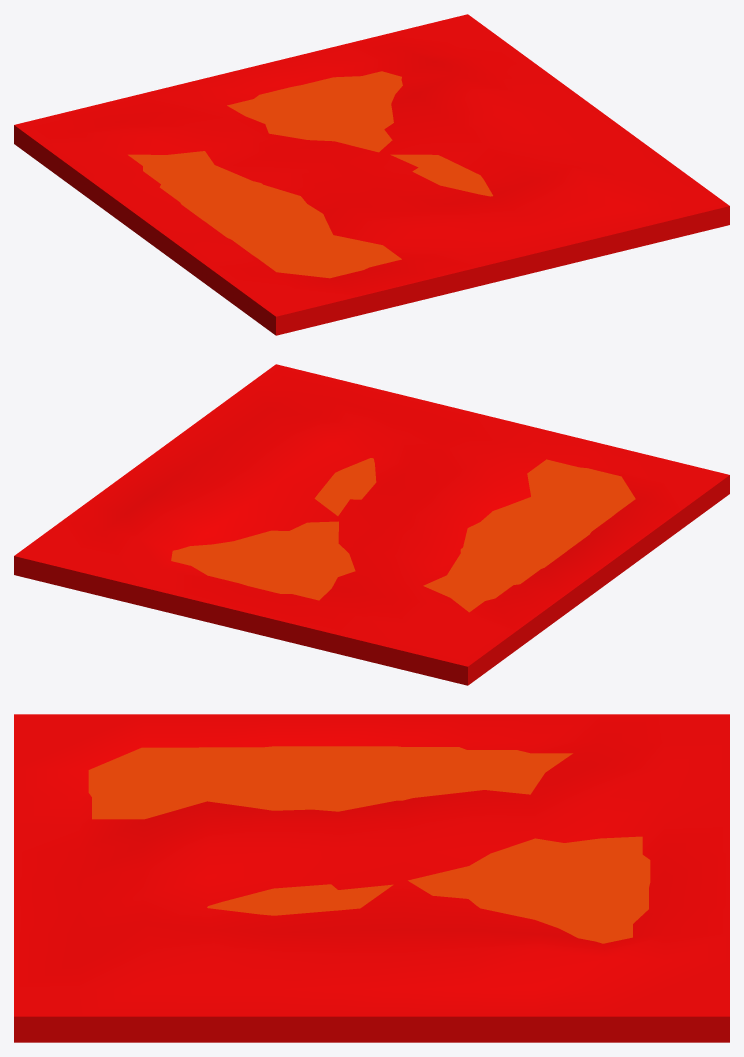
The model's file is GroundCave.FBX.
3 renders of one model, top to bottom at view 1: azimuth 30°, elevation 25°; view 2: azimuth 150°, elevation 25°; view 3: azimuth 270°, elevation 25°, orthographic. The views are drawn at different scales.
Parts seen in each view (by area): view 1: GroundCave001; view 2: GroundCave001; view 3: GroundCave001.
Part boxes in pixels (bbox=[...]): GroundCave001: bbox=[14, 14, 729, 335]; GroundCave001: bbox=[14, 364, 729, 685]; GroundCave001: bbox=[14, 714, 729, 1042].
Bounding box in the file's own units: 250 × 15.09 × 250.
